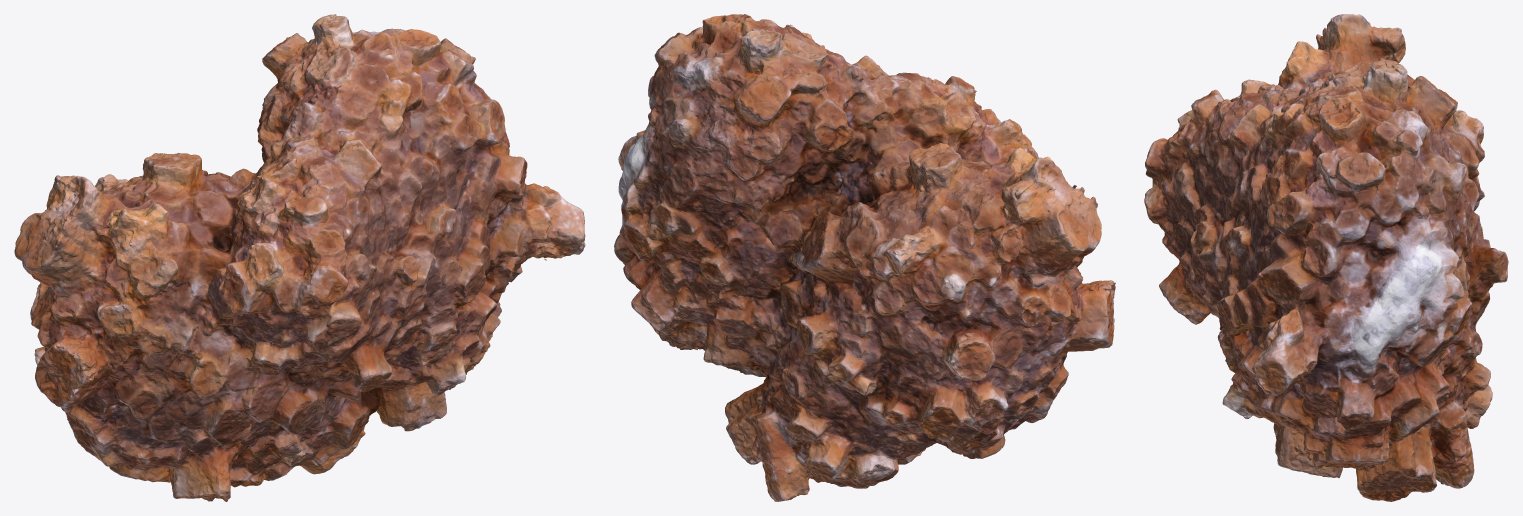
Rendered from mineral_aragonite.obj.
3 views of the same model, side by side, from view 1: azimuth 30°, elevation 25°; view 2: azimuth 150°, elevation 25°; view 3: azimuth 270°, elevation 25° (orthographic). The views are drawn at different scales.
Visible parts, largest first — view 1: Object_1, Object_0, Object_2; view 2: Object_1, Object_0, Object_2; view 3: Object_0, Object_1, Object_2.
Part boxes in pixels (bbox=[...]): Object_1: bbox=[14, 117, 546, 501]; Object_0: bbox=[205, 14, 585, 474]; Object_2: bbox=[176, 154, 380, 470]; Object_1: bbox=[732, 72, 1115, 501]; Object_0: bbox=[614, 14, 1031, 490]; Object_2: bbox=[752, 83, 998, 492]; Object_0: bbox=[1144, 58, 1479, 501]; Object_1: bbox=[1145, 14, 1508, 501]; Object_2: bbox=[1145, 80, 1506, 499].
Bounding box in the file's own units: 2.44 × 1.98 × 1.46.
Materials: 1 (1 with a texture image).
